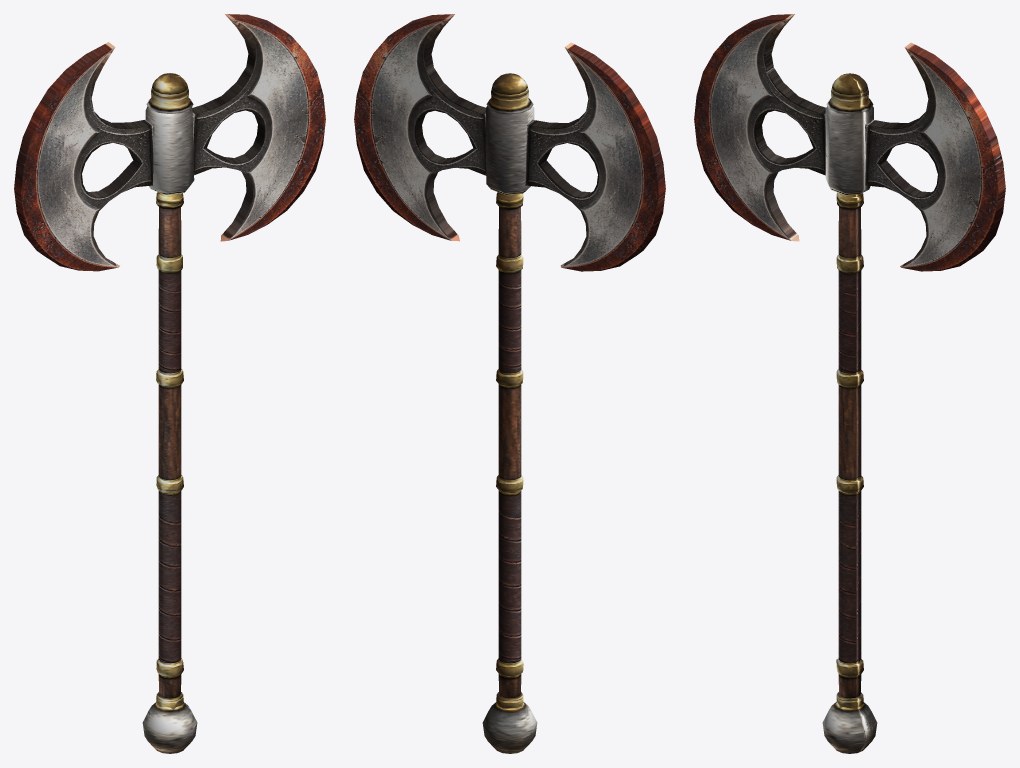
The model's file is mm8_m484_axe.glb.
3 renders of one model, left to right at view 1: azimuth 30°, elevation 25°; view 2: azimuth 150°, elevation 25°; view 3: azimuth 330°, elevation 25°, orthographic.
Parts seen in each view (by area): view 1: Axe; view 2: Axe; view 3: Axe.
Boxes of the visible parts, x1,y1,x2,y2 form: Axe: (14,14,325,753); Axe: (354,14,665,753); Axe: (694,14,1005,753).
Size of the model in its own units: 0.5531 by 1.25 by 0.086.
1 material, 1 textured.
